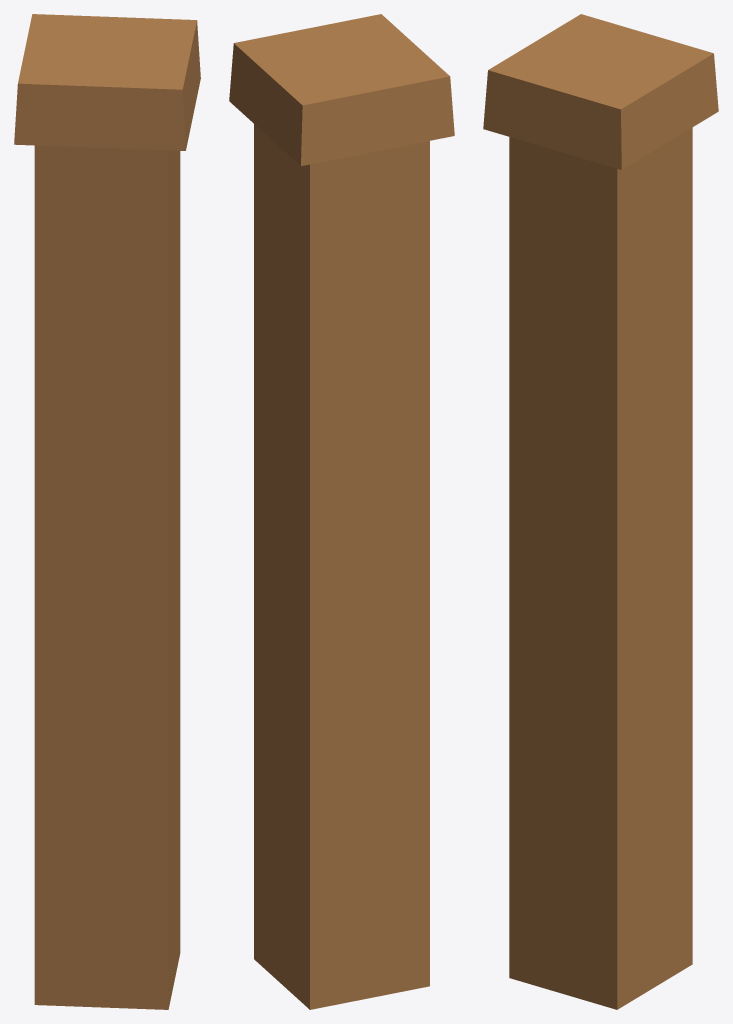
Rendered from Poste7.fbx.
3 renders of one model, left to right at view 1: azimuth 30°, elevation 25°; view 2: azimuth 150°, elevation 25°; view 3: azimuth 270°, elevation 25°, orthographic.
Visible parts, largest first — view 1: Poste7; view 2: Poste7; view 3: Poste7.
Part boxes in pixels (left/top/right/bottom): Poste7: left=14, top=14, right=200, bottom=1009; Poste7: left=229, top=14, right=454, bottom=1009; Poste7: left=483, top=14, right=718, bottom=1009.
Bounding box in the file's own units: 379 × 1616 × 379.
